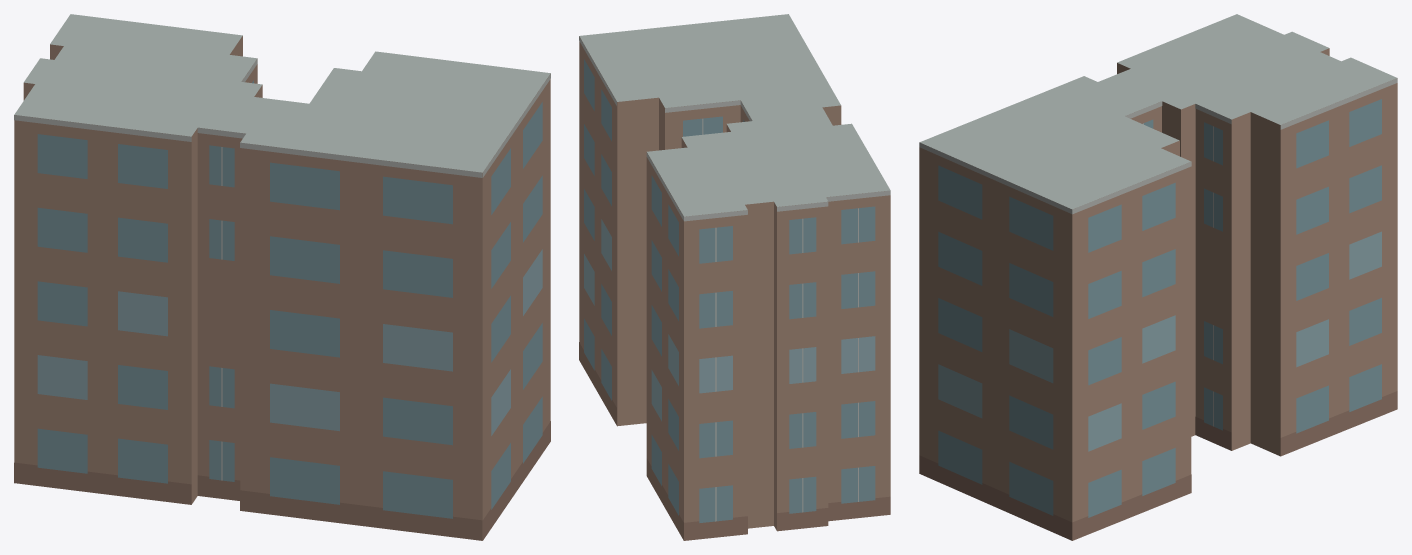
File: survey-upis-32713547.glb
The picture shows the model from 3 angles, left to right: view 1: azimuth 30°, elevation 25°; view 2: azimuth 150°, elevation 25°; view 3: azimuth 270°, elevation 25°; orthographic projection. The views are drawn at different scales.
Visible parts, largest first — view 1: survey-upis-32713547.tmp; view 2: survey-upis-32713547.tmp; view 3: survey-upis-32713547.tmp.
Part boxes in pixels (<box>): survey-upis-32713547.tmp: <box>14,14,550,540</box>; survey-upis-32713547.tmp: <box>579,14,890,540</box>; survey-upis-32713547.tmp: <box>919,14,1397,540</box>.
Bounding box in the file's own units: 21.01 × 16.6 × 21.71.
